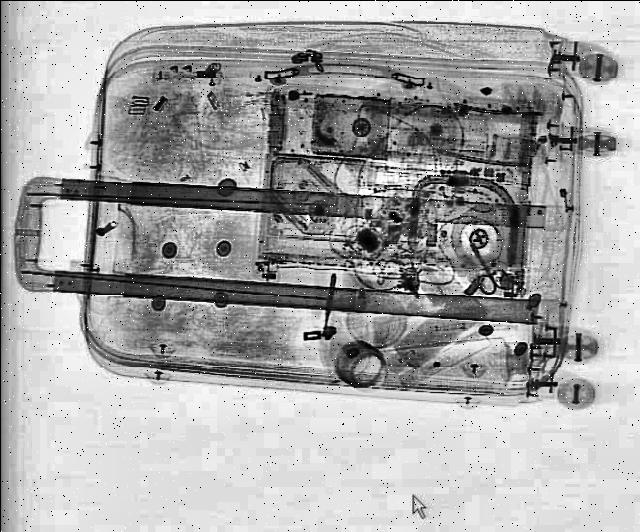Scissors: (448, 225, 518, 295)
